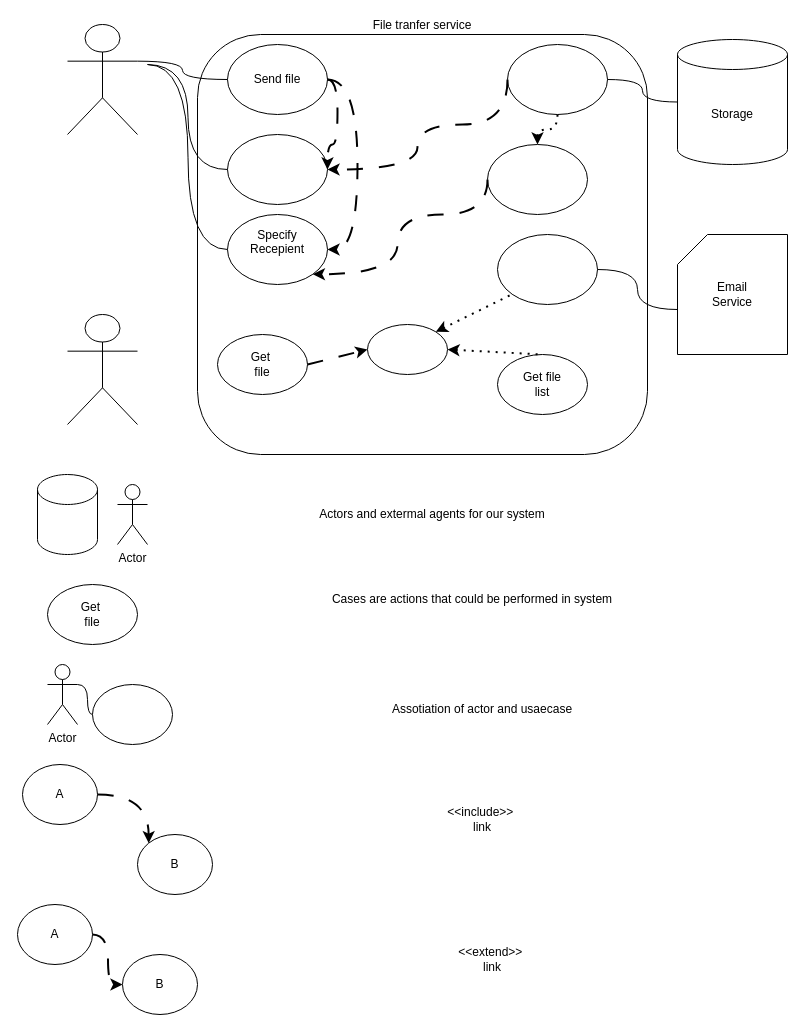
Some shapes in this 805 by 1032 pixel diagram are drawn without their labels. Here are the shapes that lost their labels. From the top down, the centre of each, then its label:
At (102,79): "Sender".
At (557,79): "Store file".
At (277,169): "Upload file".
At (537,179): "Save file metadate".
At (547,269): "Send email".
At (102,369): "Recepient".
At (407,349): "Get Available".
